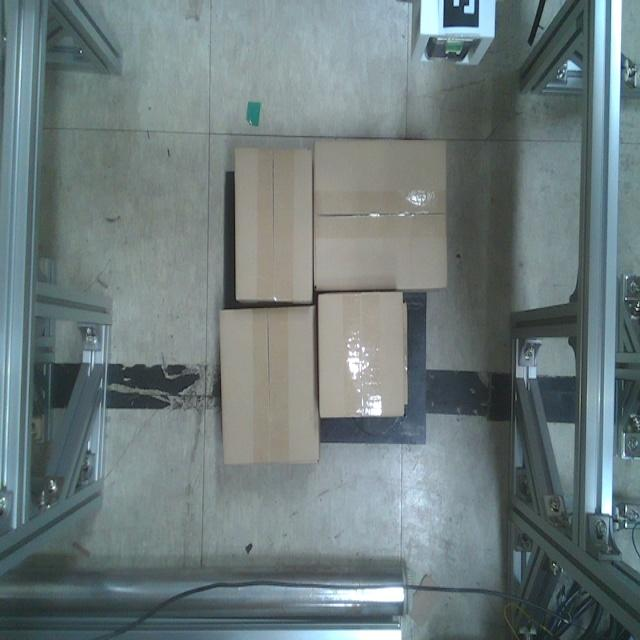box: (312, 139, 451, 293), (215, 302, 322, 466), (232, 144, 315, 304), (317, 291, 409, 420)
